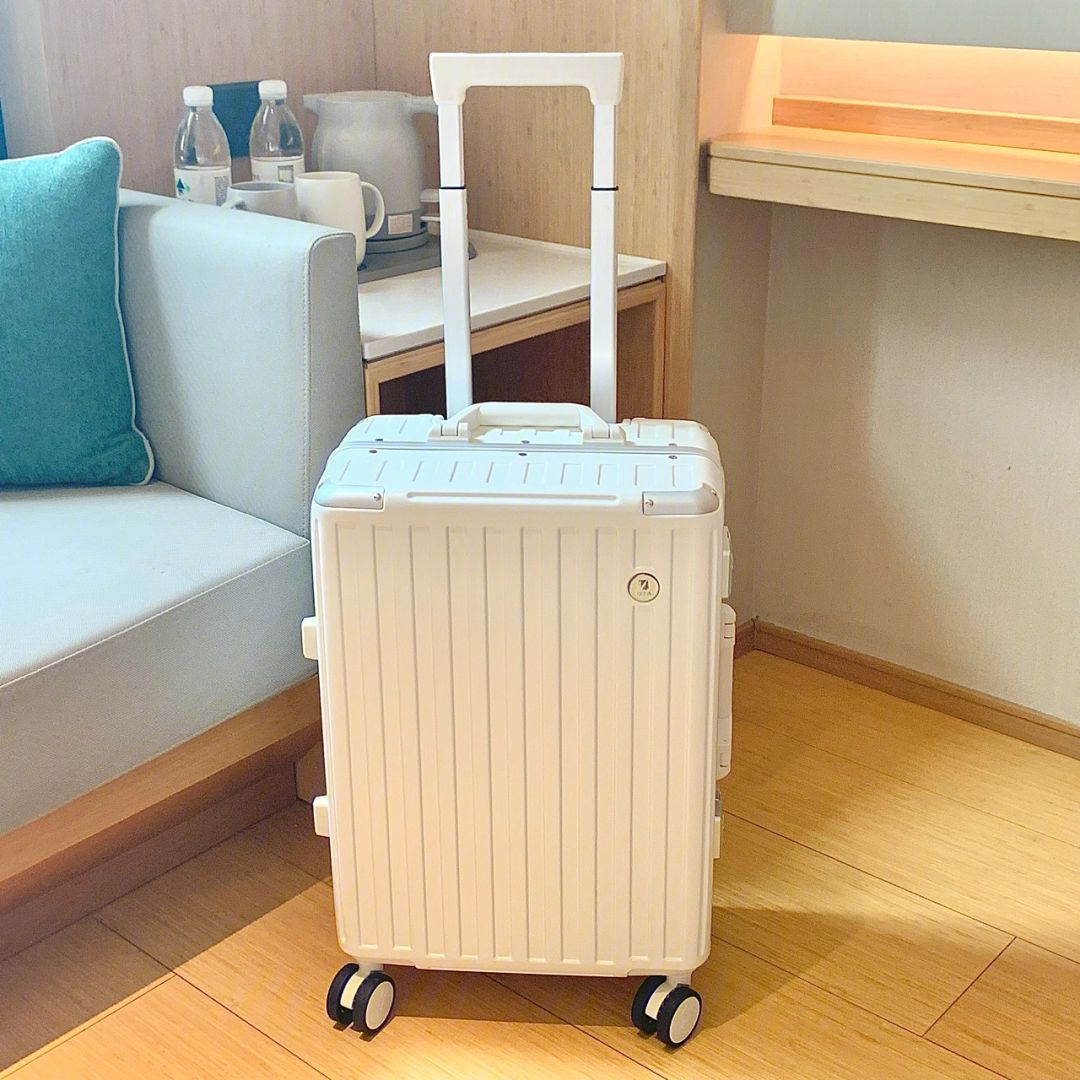box: (311, 414, 725, 980)
handle: (427, 402, 625, 449), (716, 601, 736, 783)
wheel: (325, 963, 396, 1034), (631, 977, 702, 1047)
